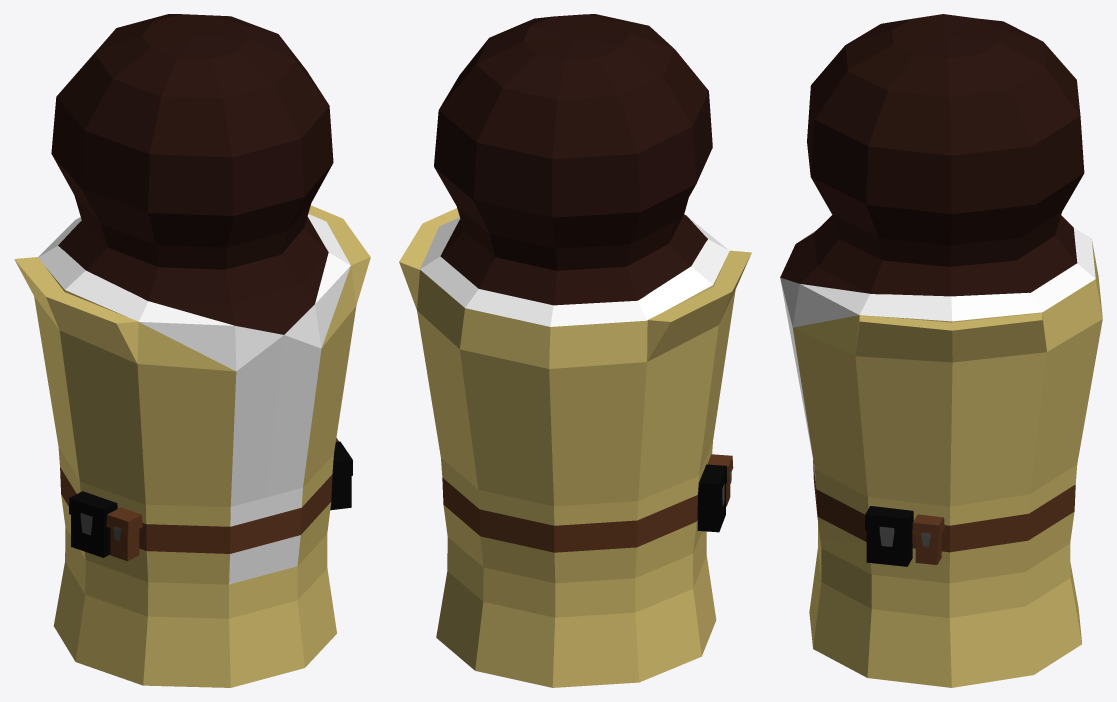
Rendered from First_player.fbx.
The picture shows the model from 3 angles, left to right: view 1: azimuth 30°, elevation 25°; view 2: azimuth 150°, elevation 25°; view 3: azimuth 270°, elevation 25°; orthographic projection.
Parts seen in each view (by area): view 1: Sphere.010, Sphere.015, Sphere.012, Cube.003, Sphere.013, Cube.002, Cube; view 2: Sphere.010, Sphere.015, Sphere.012, Cube.003, Sphere.013; view 3: Sphere.010, Sphere.015, Sphere.013, Cube, Cube.001.
Part boxes in pixels (x1,y1,x2,y2): Sphere.010: (34,214,356,687); Sphere.015: (51,14,333,303); Sphere.012: (14,257,138,363); Cube.003: (69,491,117,557); Sphere.013: (308,205,370,305); Cube.002: (106,507,142,561); Cube: (330,441,352,510); Sphere.010: (417,214,735,687); Sphere.015: (434,14,712,305); Sphere.012: (647,250,751,361); Cube.003: (697,464,726,532); Sphere.013: (399,208,459,309); Sphere.010: (780,228,1102,687); Sphere.015: (807,14,1084,296); Sphere.013: (855,313,1046,362); Cube: (865,506,913,566); Cube.001: (912,514,944,564).
Size of the model in its own units: 166 by 309 by 153.
